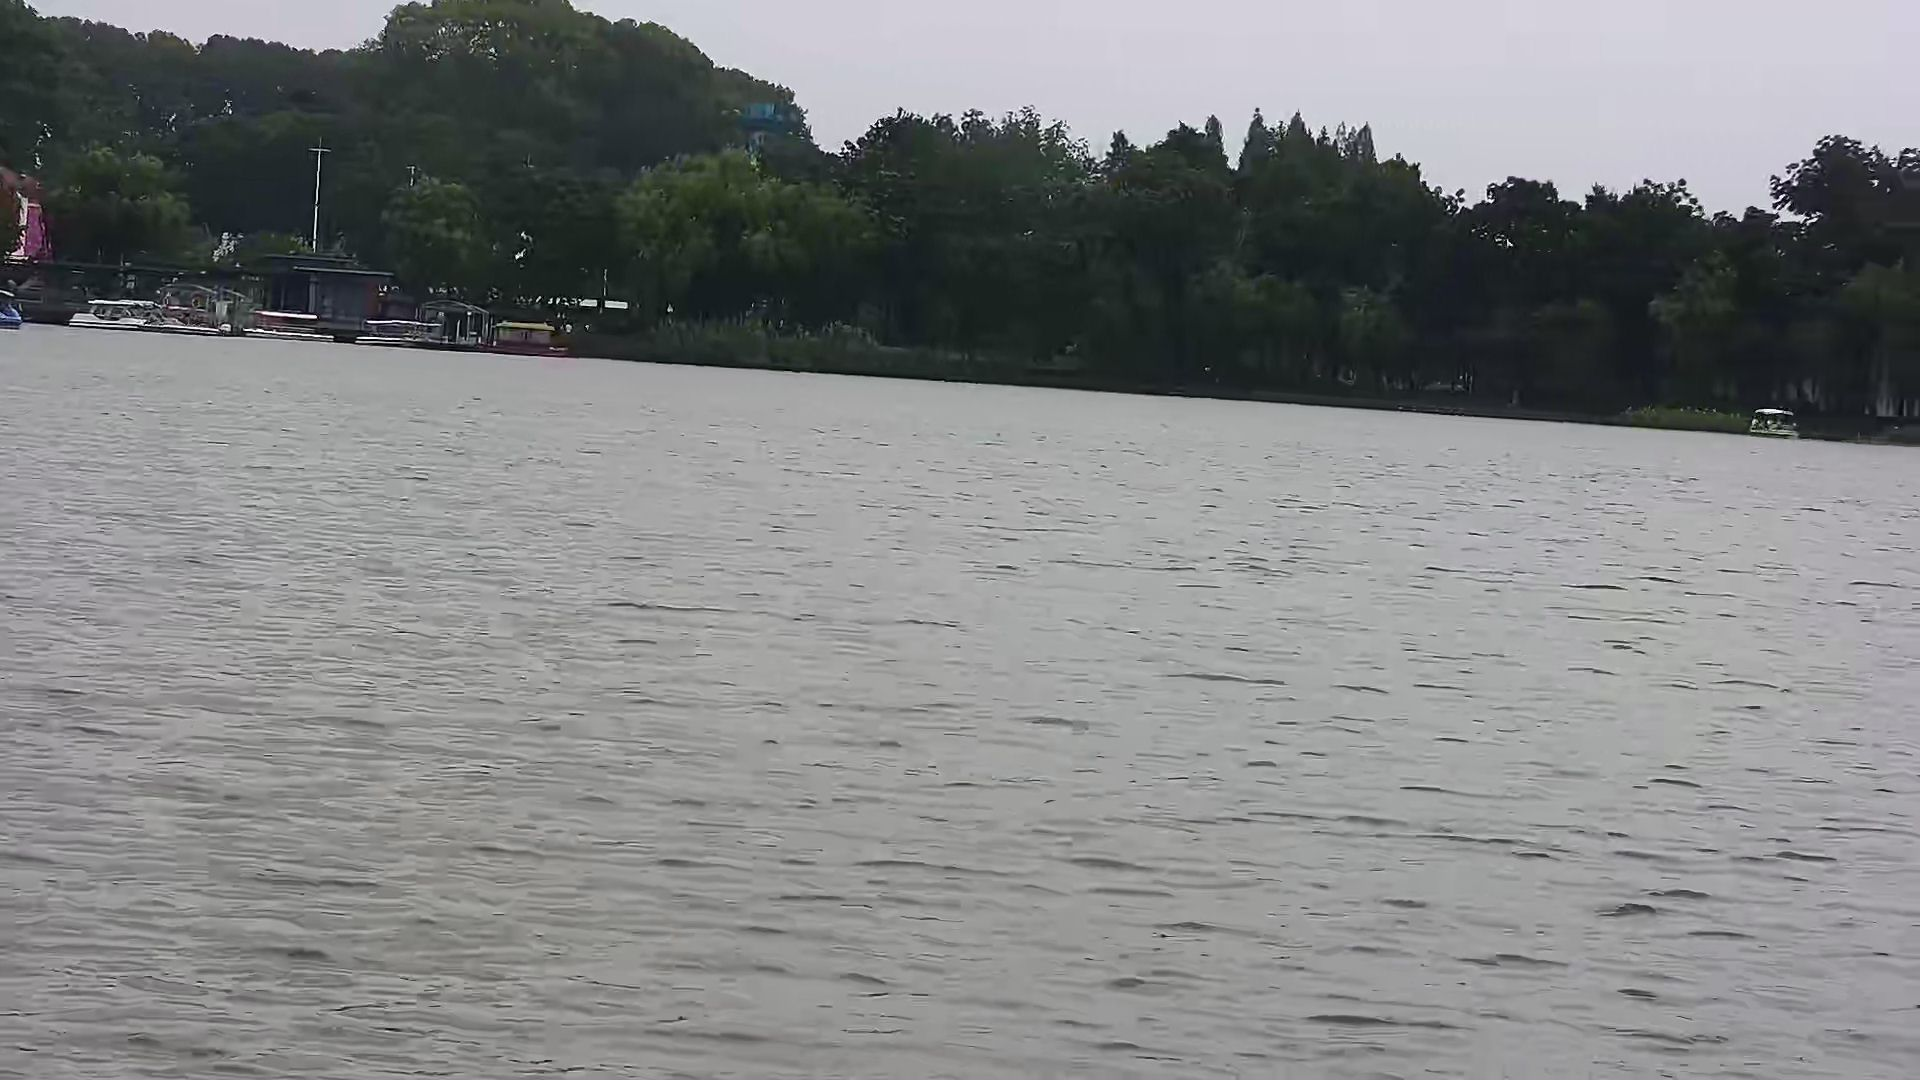boat: (1747, 404, 1803, 443)
harbor: (71, 252, 582, 364)
